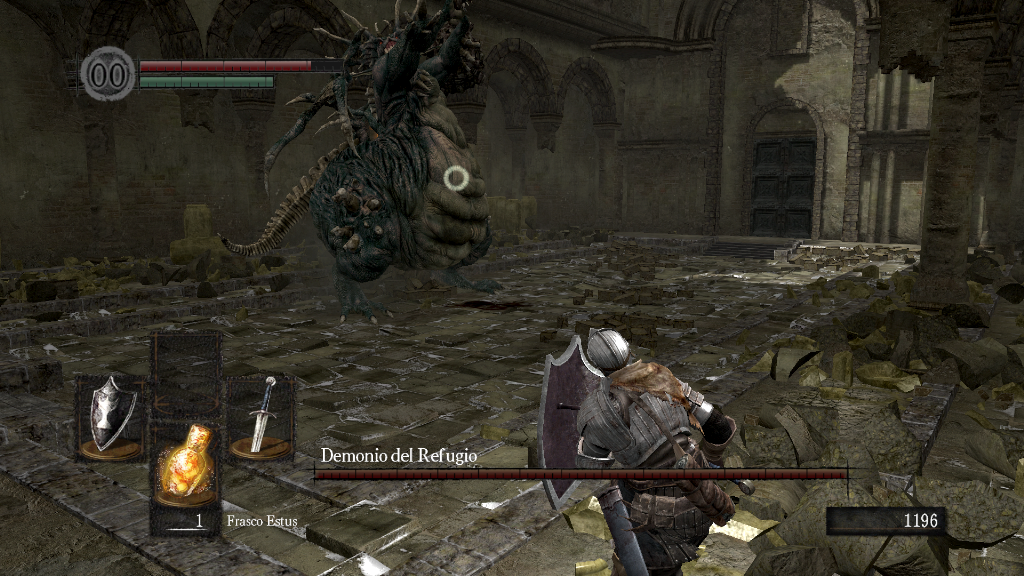asylumDemon: (217, 2, 497, 323)
bossHP: (314, 469, 847, 479)
health: (138, 58, 343, 71)
humanity: (80, 45, 136, 102)
player: (535, 324, 757, 576)
souls: (825, 506, 945, 536)
stamina: (138, 74, 274, 88)
